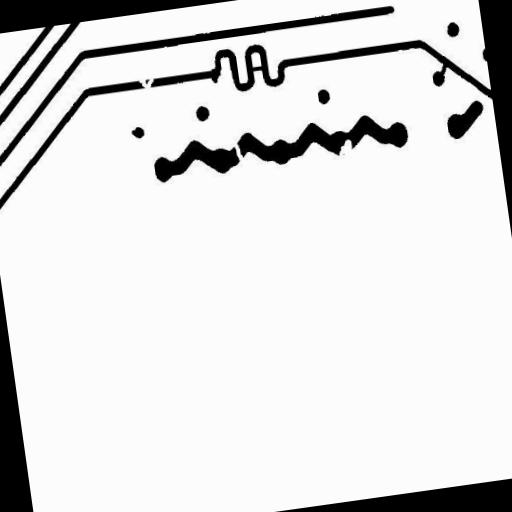copper: (122, 118, 152, 148)
mousebite: (326, 130, 364, 179)
open: (222, 133, 254, 176), (130, 68, 163, 97)
short: (428, 52, 461, 85), (238, 58, 272, 82)
spur: (201, 59, 230, 92)
